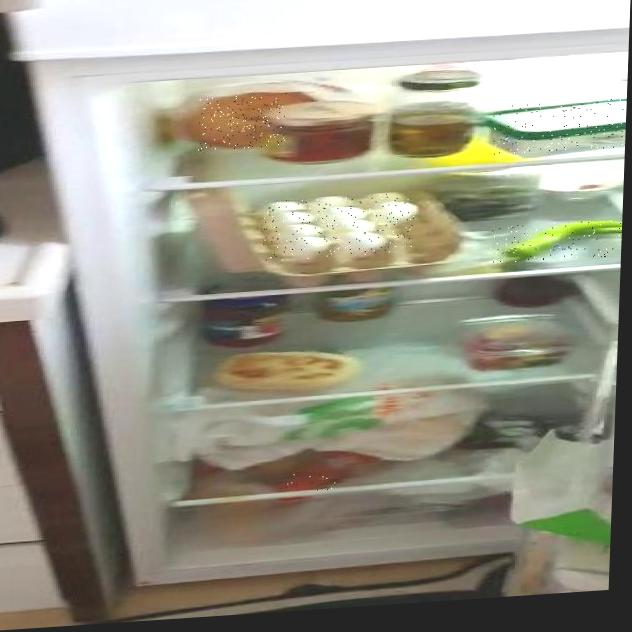bread: (223, 345, 361, 393), (198, 92, 287, 152)
cream cheese: (492, 97, 627, 156)
eggs: (263, 192, 415, 262)
green chilies: (488, 218, 622, 265)
tomato: (278, 471, 336, 493)
